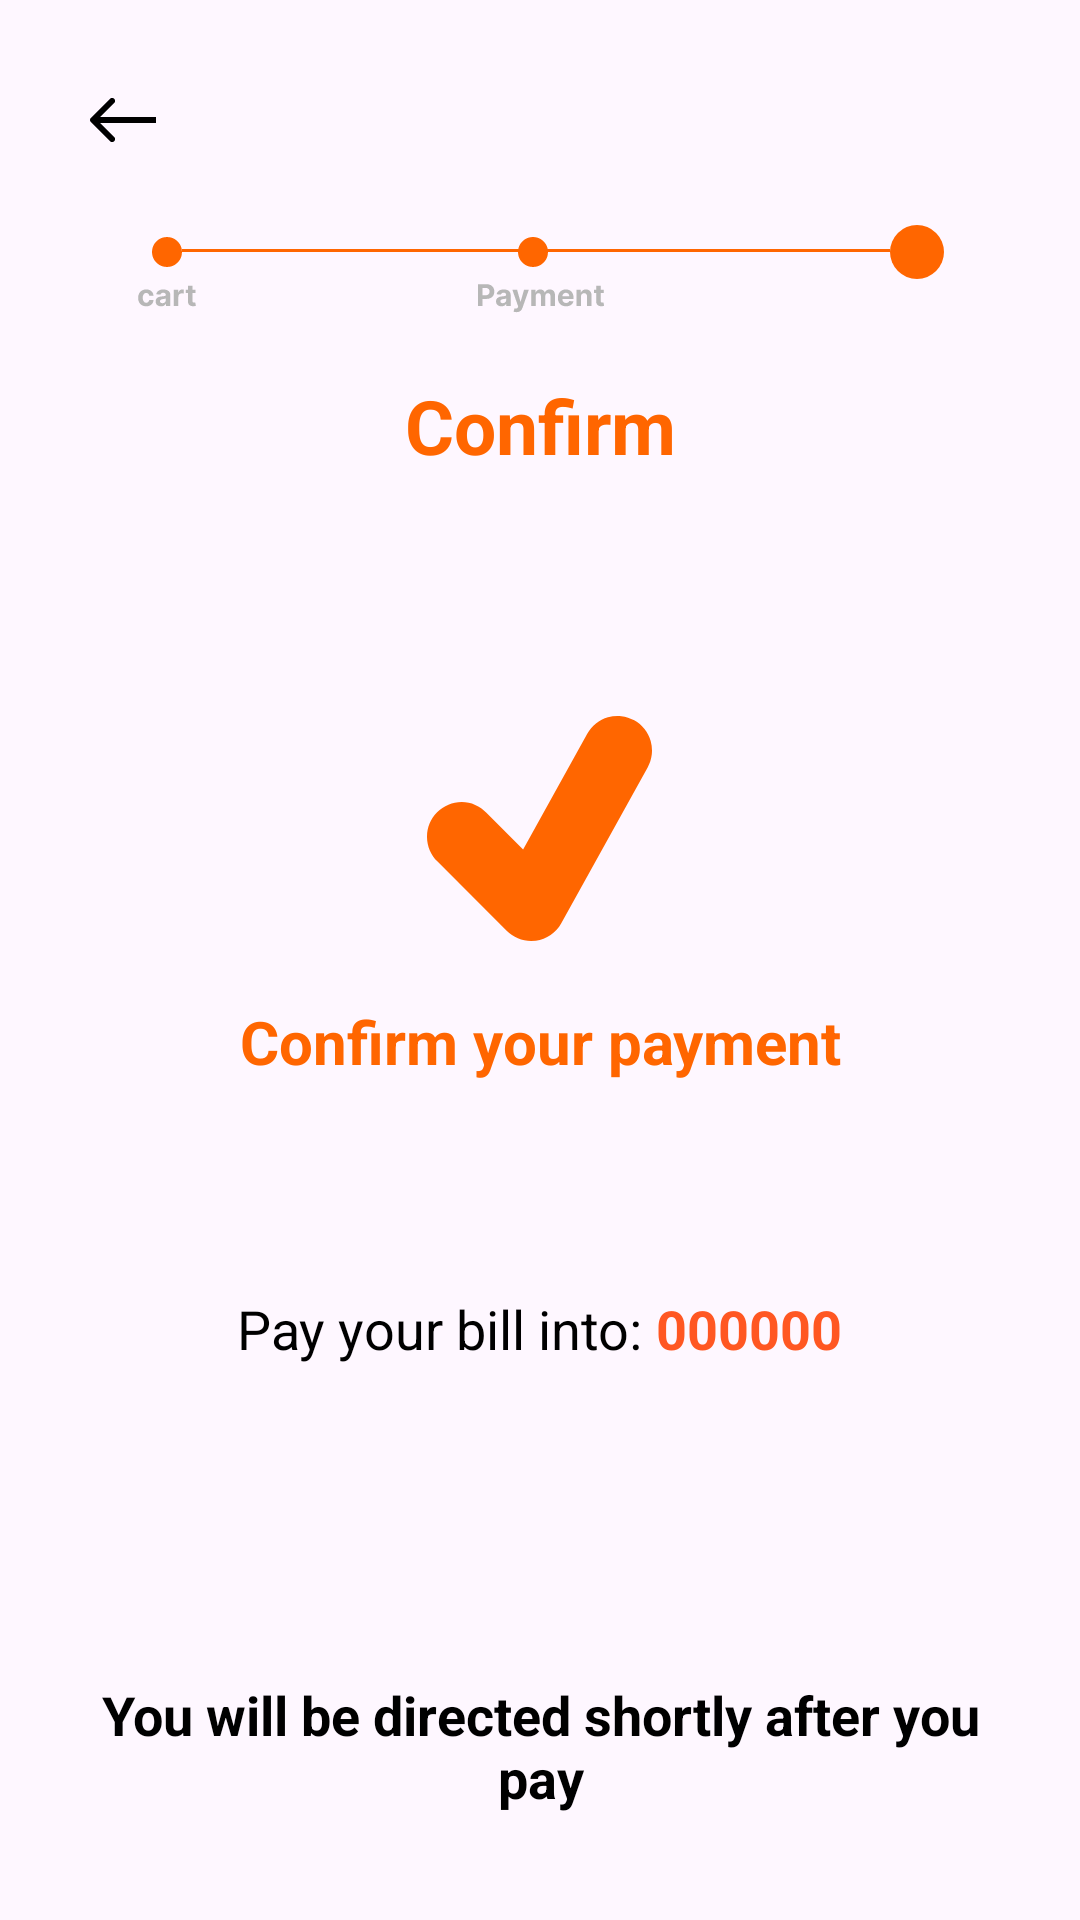

Screen size 1080×1920. Icon name, then its box in pixels as bbox=[x1, y1, x2, y2]:
arrowbackblack: bbox=[90, 98, 156, 142]
success: bbox=[427, 716, 652, 941]
